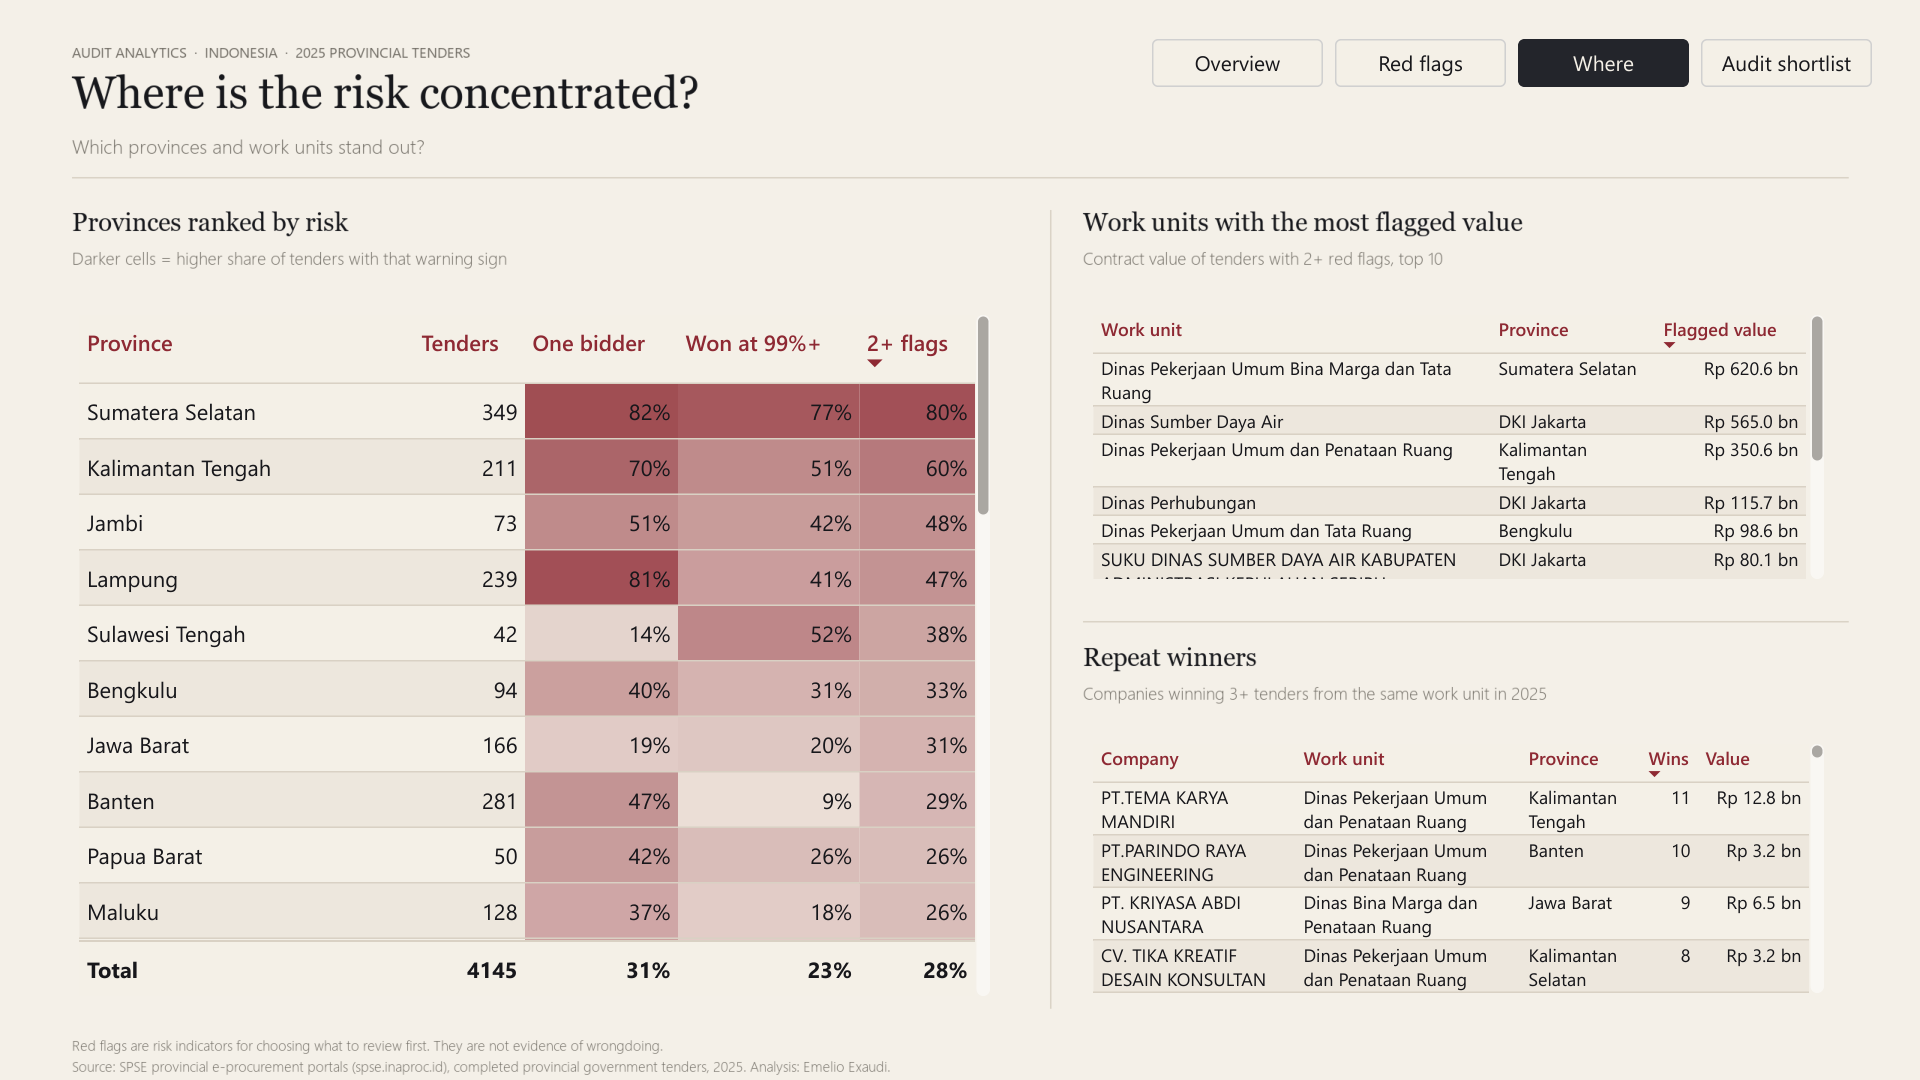

What the dashboard file says about the page in this screenshot:
{"tool":"powerbi","page":{"name":"Where","canvas":[1280,720],"ordinal":2},"visuals":[{"type":"tableEx","fields":{"Values":["tenders.province","tenders.Tenders Analysed","tenders.Single Bid %","tenders.Near HPS %","tenders.Multi Flag %"]},"box":[36,196,640,484],"z":0},{"type":"tableEx","fields":{"Values":["tenders.work_unit","tenders.province","flags.Top10 Flagged Value"]},"box":[712,196,520,206],"z":1},{"type":"tableEx","fields":{"Values":["repeat_winners.winner_name","repeat_winners.work_unit","repeat_winners.province","Sum(repeat_winners.wins)","flags.Repeat Win Value"]},"box":[712,482,520,196],"z":2},{"type":"pageNavigator","box":[768,26,480,32],"z":3}]}

Visuals, with their boxes in screenshot pixels (x1, y1, x2, y2), scaled from the page's 1280x720 canvas onto the 1920x1080 screenshot:
tableEx - tenders.province x tenders.Tenders Analysed: BBox(54, 294, 1014, 1020)
tableEx - tenders.work_unit x tenders.province: BBox(1068, 294, 1848, 603)
tableEx - repeat_winners.winner_name x repeat_winners.work_unit: BBox(1068, 723, 1848, 1017)
pageNavigator: BBox(1152, 39, 1872, 87)
